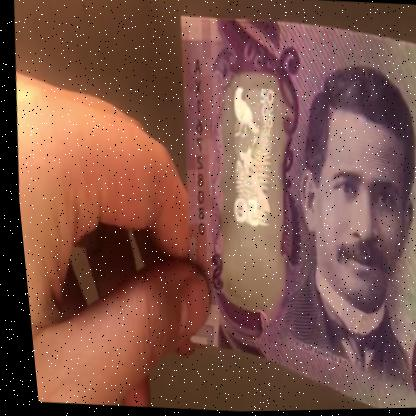50F: (208, 80, 292, 281)
